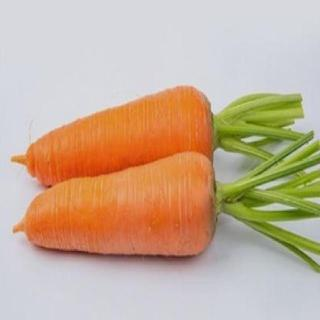carrot: (13, 149, 230, 267), (15, 87, 232, 189)
